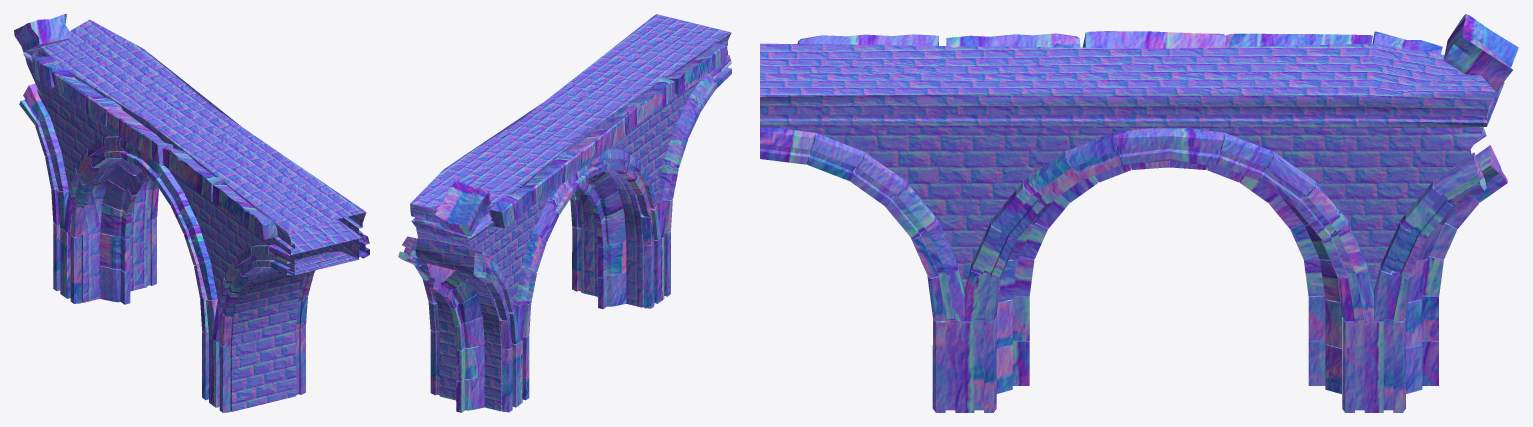
File: ARCHS_SHORT_LOD1.fbx
3 renders of one model, left to right at view 1: azimuth 30°, elevation 25°; view 2: azimuth 150°, elevation 25°; view 3: azimuth 270°, elevation 25°, orthographic. The views are drawn at different scales.
Visible parts, largest first — view 1: ARCHS_SHORT; view 2: ARCHS_SHORT; view 3: ARCHS_SHORT.
Part boxes in pixels (<box>): ARCHS_SHORT: <box>14,14,369,412</box>; ARCHS_SHORT: <box>398,14,731,412</box>; ARCHS_SHORT: <box>760,14,1518,412</box>.
Size of the model in its own units: 313 by 743 by 1483.
1 material, 1 textured.
